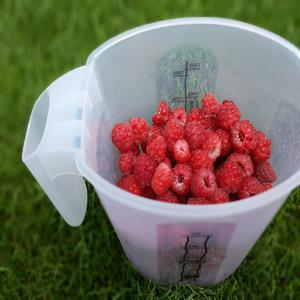raspb: (125, 92, 272, 197)
